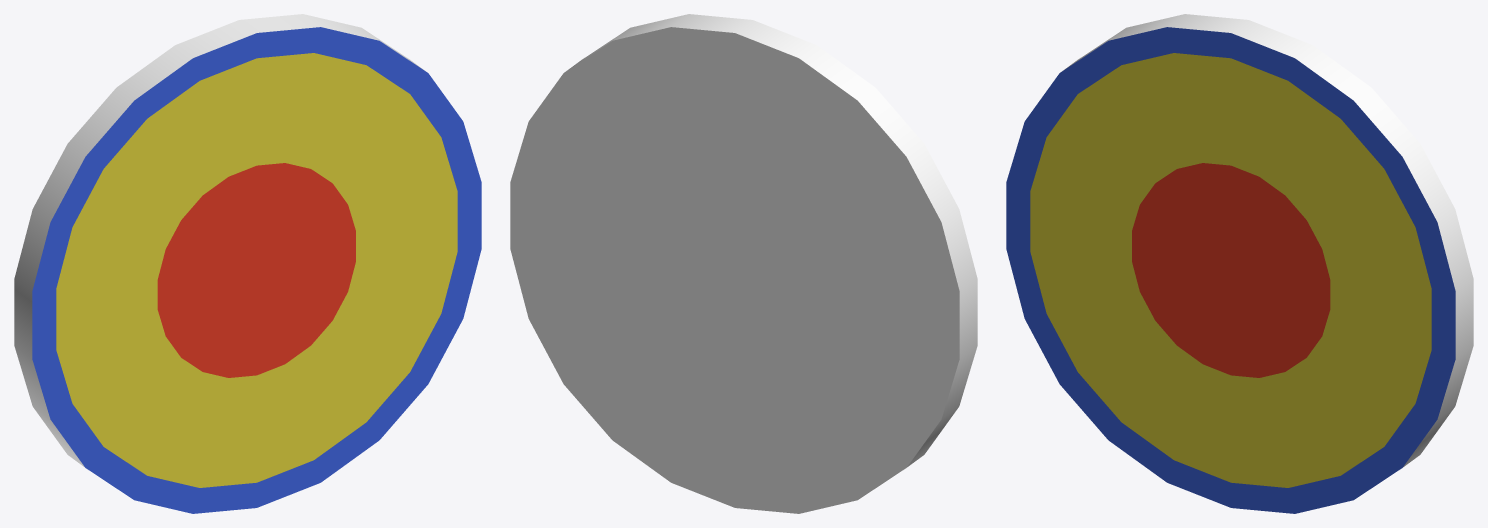
Rendered from PointsForHit.fbx.
3 views of the same model, side by side, from view 1: azimuth 30°, elevation 25°; view 2: azimuth 150°, elevation 25°; view 3: azimuth 330°, elevation 25° (orthographic).
Parts seen in each view (by area): view 1: Cylinder; view 2: Cylinder; view 3: Cylinder.
Part boxes in pixels (bbox=[...]): Cylinder: bbox=[14, 14, 481, 513]; Cylinder: bbox=[510, 14, 977, 513]; Cylinder: bbox=[1006, 14, 1473, 513].
Size of the model in its own units: 312 by 315 by 21.43.
